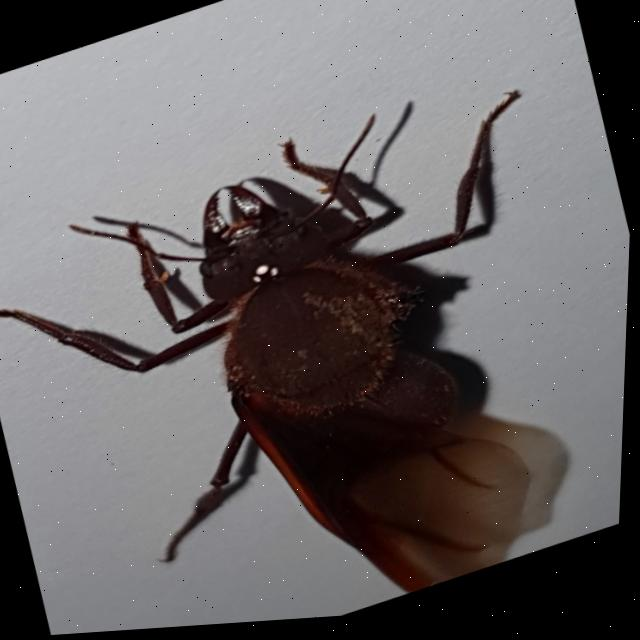Alive-Female-Alate: (0, 62, 637, 640)
